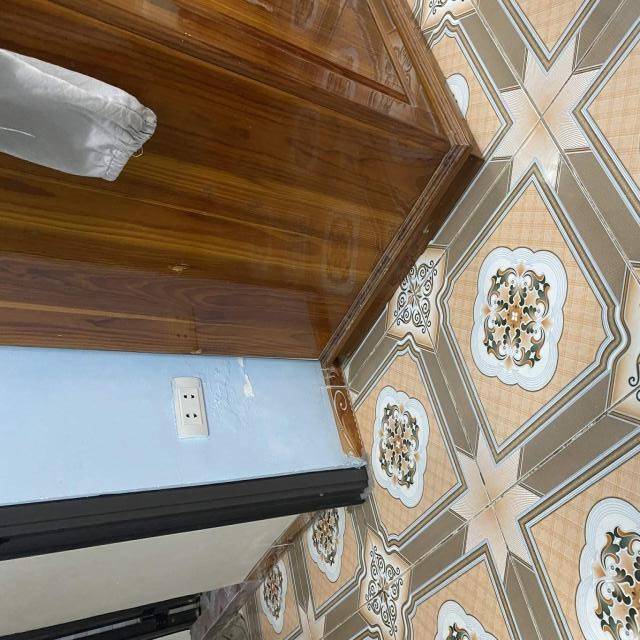outlet: (172, 377, 209, 439)
